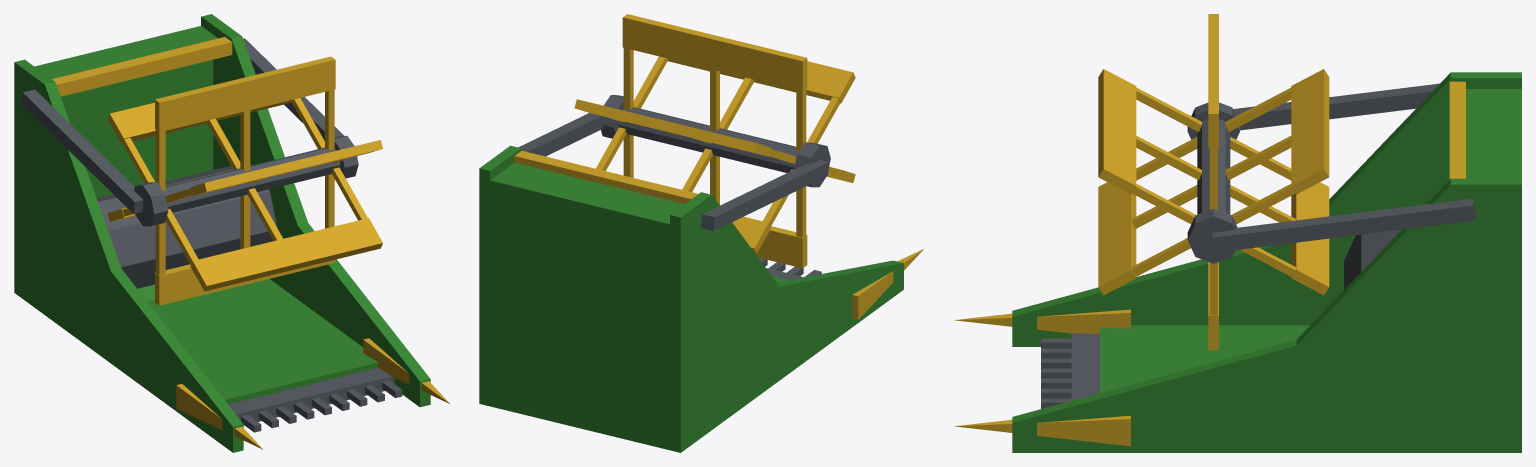
The model's file is header.glb.
3 views of the same model, side by side, from view 1: azimuth 30°, elevation 25°; view 2: azimuth 150°, elevation 25°; view 3: azimuth 270°, elevation 25° (orthographic). The views are drawn at different scales.
Visible parts, largest first — view 1: tray, shield_R, reel_bats, shield_L, auger, reel_arms, top_rail, reel_arm_R, reel_axle, cutter_bar, guards, divider_R (+4 smaller); view 2: tray, shield_R, reel_bats, reel_arms, reel_axle, shield_L, reel_arm_R, top_rail, reel_arm_L, divider_R, bearing_R, bearing_L; view 3: shield_L, shield_R, reel_bats, tray, reel_arms, reel_arm_L, reel_arm_R, divider_L, divider_R, reel_axle, guards, cutter_bar (+4 smaller).
Part boxes in pixels (x1,y1,x2,y2): tray: (34, 26, 378, 404); shield_R: (14, 59, 243, 452); reel_bats: (107, 56, 382, 305); shield_L: (201, 14, 430, 407); auger: (96, 164, 276, 288); reel_arms: (122, 89, 367, 275); top_rail: (52, 37, 232, 96); reel_arm_R: (22, 89, 143, 213); reel_axle: (163, 147, 340, 212); cutter_bar: (228, 368, 394, 425); guards: (241, 380, 402, 432); divider_R: (176, 384, 263, 449); tray: (490, 162, 788, 450); shield_R: (670, 192, 903, 452); reel_bats: (574, 14, 855, 268); reel_arms: (596, 48, 840, 237); reel_axle: (618, 107, 798, 172); shield_L: (479, 145, 522, 406); reel_arm_R: (701, 160, 828, 230); top_rail: (514, 151, 698, 203); reel_arm_L: (518, 113, 604, 156); divider_R: (852, 249, 923, 319); bearing_R: (794, 142, 830, 187); bearing_L: (601, 95, 623, 138); shield_L: (1012, 178, 1521, 452); shield_R: (1012, 72, 1521, 346); reel_bats: (1098, 14, 1329, 350); tray: (1100, 89, 1521, 392); reel_arms: (1131, 87, 1295, 315); reel_arm_L: (1212, 198, 1475, 252); reel_arm_R: (1233, 83, 1439, 130); divider_L: (954, 415, 1130, 446); divider_R: (954, 309, 1130, 333); reel_axle: (1197, 119, 1230, 214); guards: (1041, 338, 1071, 408); cutter_bar: (1071, 333, 1099, 400).
Size of the model in its own units: 1.26 by 1.55 by 2.4.
